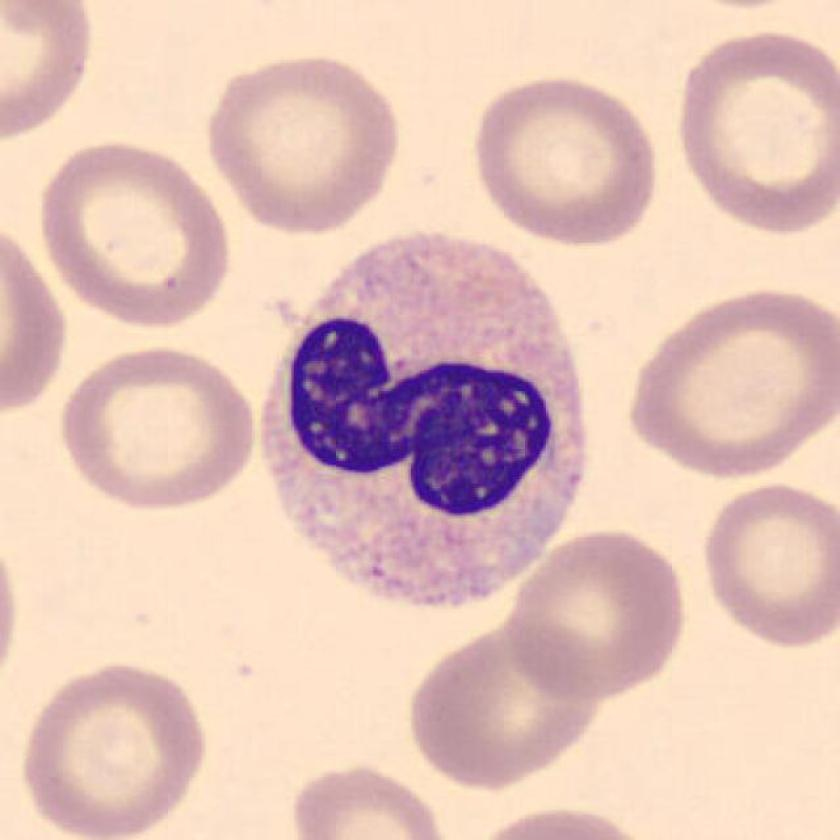neutrophil: (260, 231, 588, 602)
